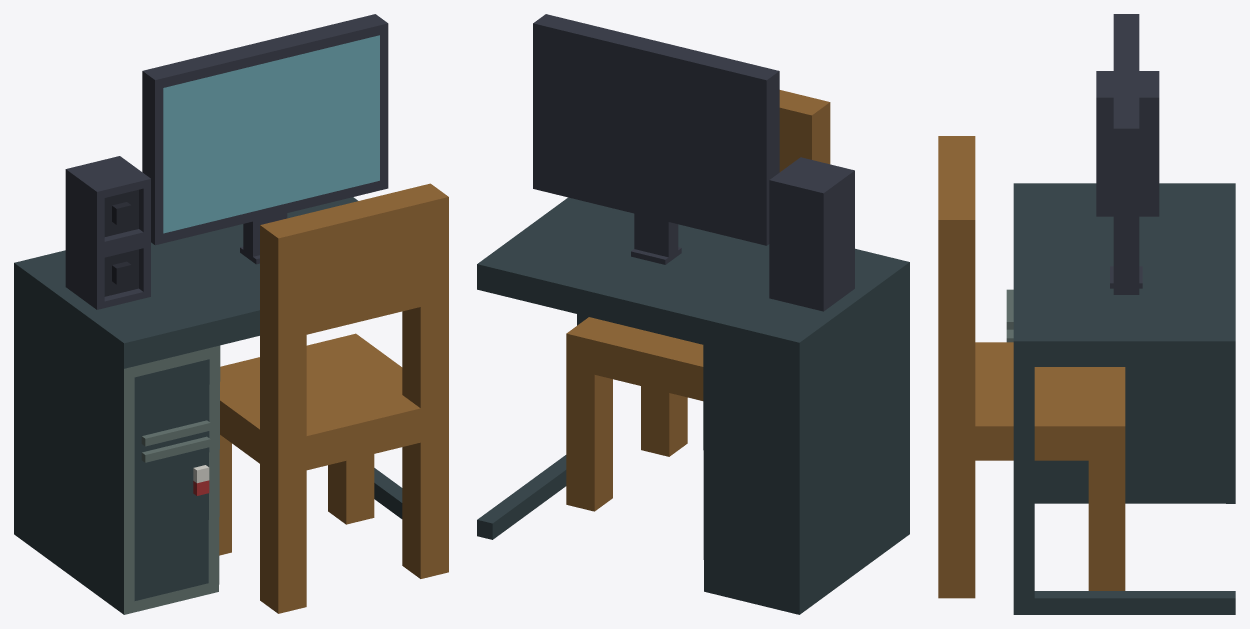
File: computer_desk.glb
3 renders of one model, left to right at view 1: azimuth 30°, elevation 25°; view 2: azimuth 150°, elevation 25°; view 3: azimuth 270°, elevation 25°, orthographic.
Visible parts, largest first — view 1: computer_desk; view 2: computer_desk; view 3: computer_desk.
Part boxes in pixels (<box>): computer_desk: <box>14,14,448,614</box>; computer_desk: <box>477,14,909,614</box>; computer_desk: <box>938,14,1235,614</box>.
Size of the model in its own units: 0.9845 by 1.4 by 0.7814.
